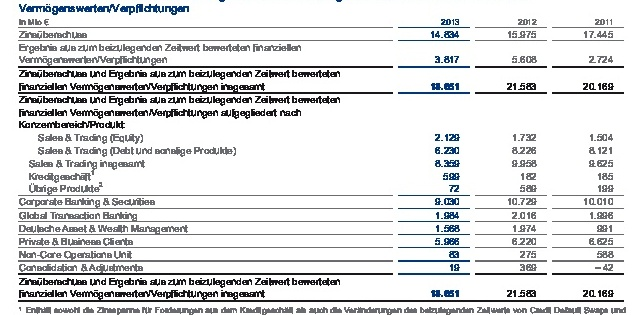table: (0, 0, 639, 315)
